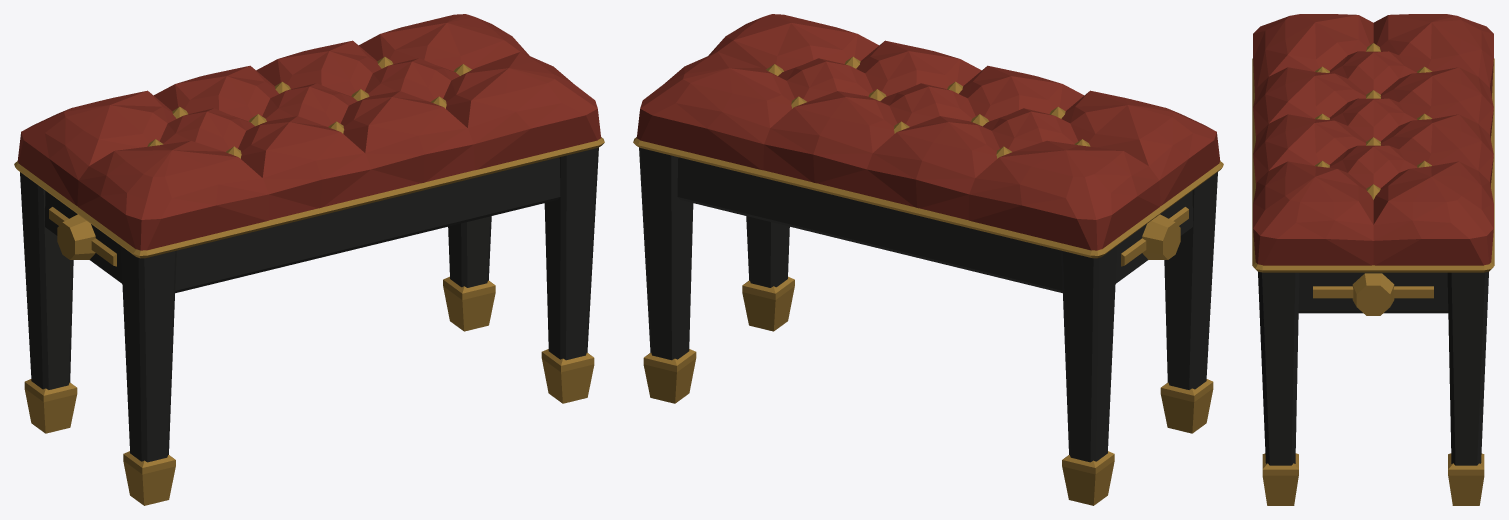
Rendered from piano-bench-93e2b4.glb.
3 views of the same model, side by side, from view 1: azimuth 30°, elevation 25°; view 2: azimuth 150°, elevation 25°; view 3: azimuth 270°, elevation 25° (orthographic). The views are drawn at different scales.
Visible parts, largest first — view 1: bench; view 2: bench; view 3: bench.
Part boxes in pixels (left/top/right/bottom): bench: left=14, top=14, right=604, bottom=505; bench: left=633, top=14, right=1223, bottom=505; bench: left=1252, top=14, right=1494, bottom=505.
Bounding box in the file's own units: 0.786 × 0.5 × 0.36.
